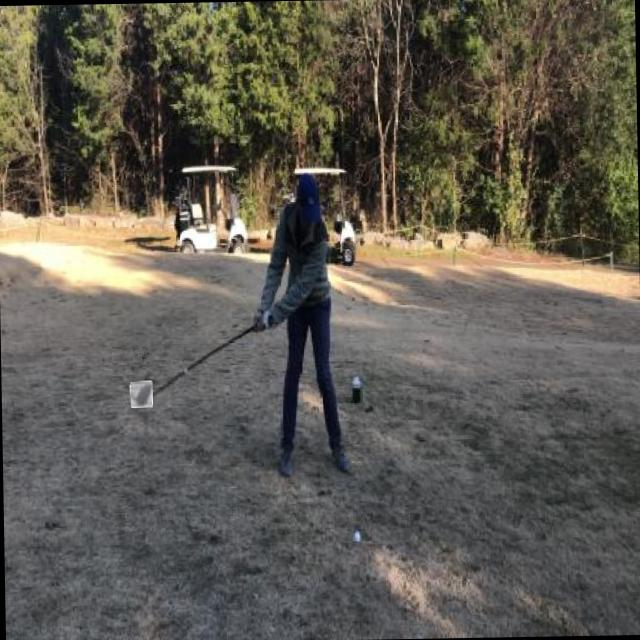club head: (130, 380, 153, 408)
